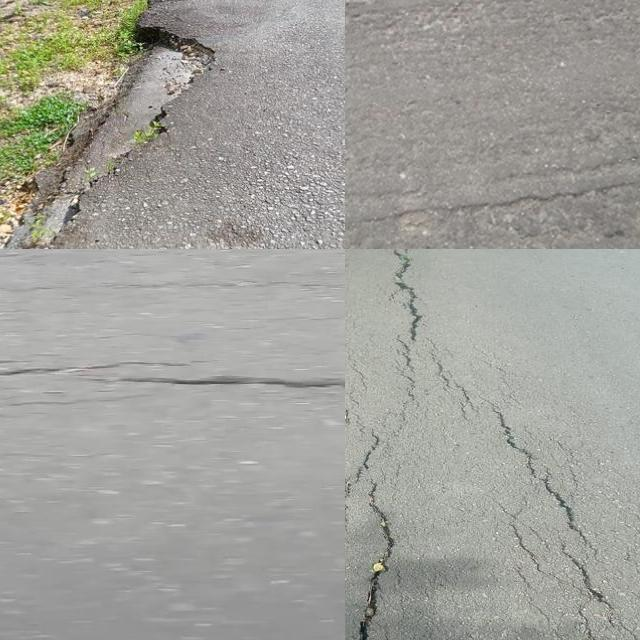Melintang: (0, 351, 345, 406)
Memanjang: (471, 396, 605, 566), (345, 459, 406, 640), (384, 249, 436, 355)
Pinggir: (0, 0, 244, 249)
